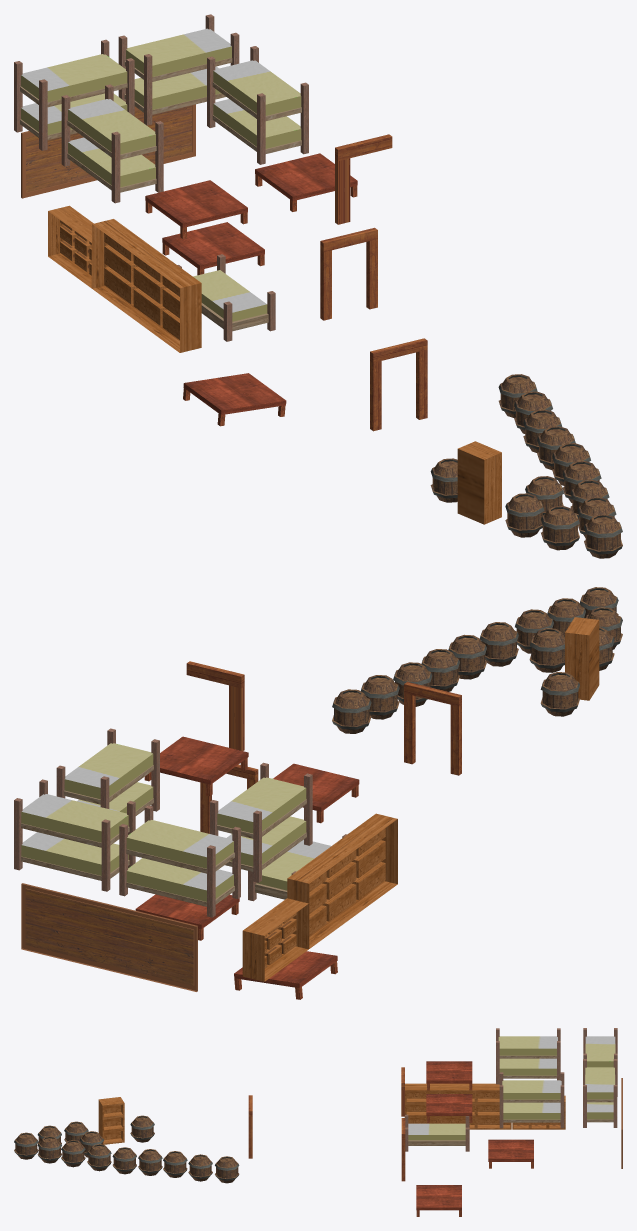
The model's file is ObjdoorX.fbx.
3 renders of one model, top to bottom at view 1: azimuth 30°, elevation 25°; view 2: azimuth 150°, elevation 25°; view 3: azimuth 270°, elevation 25°, orthographic. The views are drawn at different scales.
Parts seen in each view (by area): view 1: Box041; view 2: Box041; view 3: Box041.
Part boxes in pixels (left/top/right/bottom): Box041: left=14, top=14, right=622, bottom=558; Box041: left=14, top=587, right=622, bottom=999; Box041: left=14, top=1028, right=622, bottom=1216.
Bounding box in the file's own units: 1929 × 2340 × 7983.
